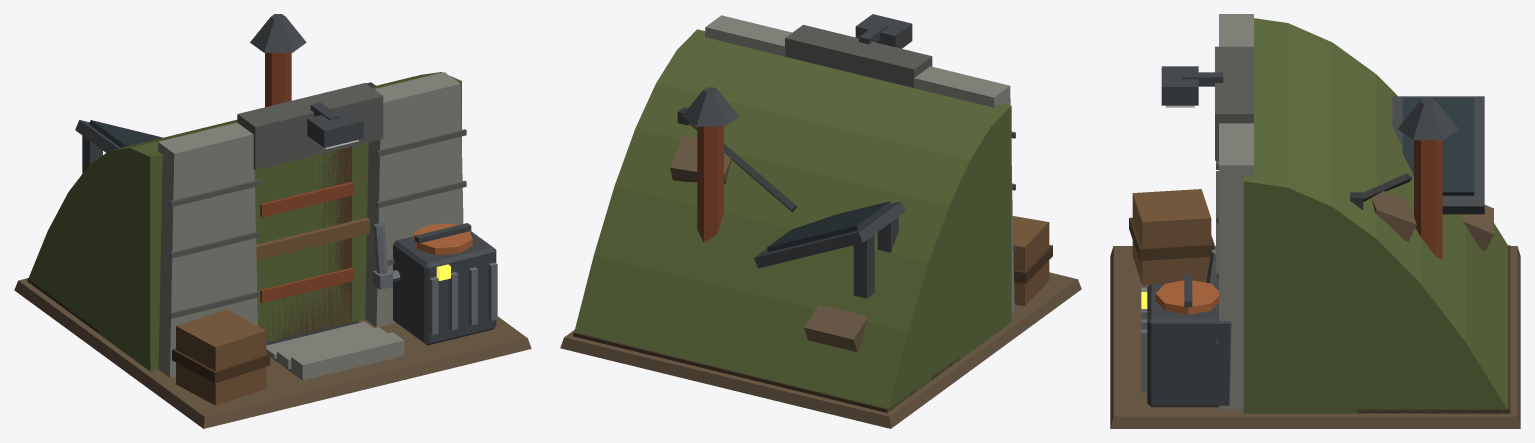
File: cold_cellar_l1_powered.glb
The picture shows the model from 3 angles, left to right: view 1: azimuth 30°, elevation 25°; view 2: azimuth 150°, elevation 25°; view 3: azimuth 270°, elevation 25°; orthographic projection. The views are drawn at different scales.
Parts seen in each view (by area): view 1: cold_cellar_l1_powered_mesh; view 2: cold_cellar_l1_powered_mesh; view 3: cold_cellar_l1_powered_mesh.
Boxes of the visible parts, bbox=[...] form: cold_cellar_l1_powered_mesh: bbox=[14, 14, 531, 428]; cold_cellar_l1_powered_mesh: bbox=[560, 14, 1081, 428]; cold_cellar_l1_powered_mesh: bbox=[1110, 14, 1520, 428].
Bounding box in the file's own units: 2 × 1.46 × 2.
